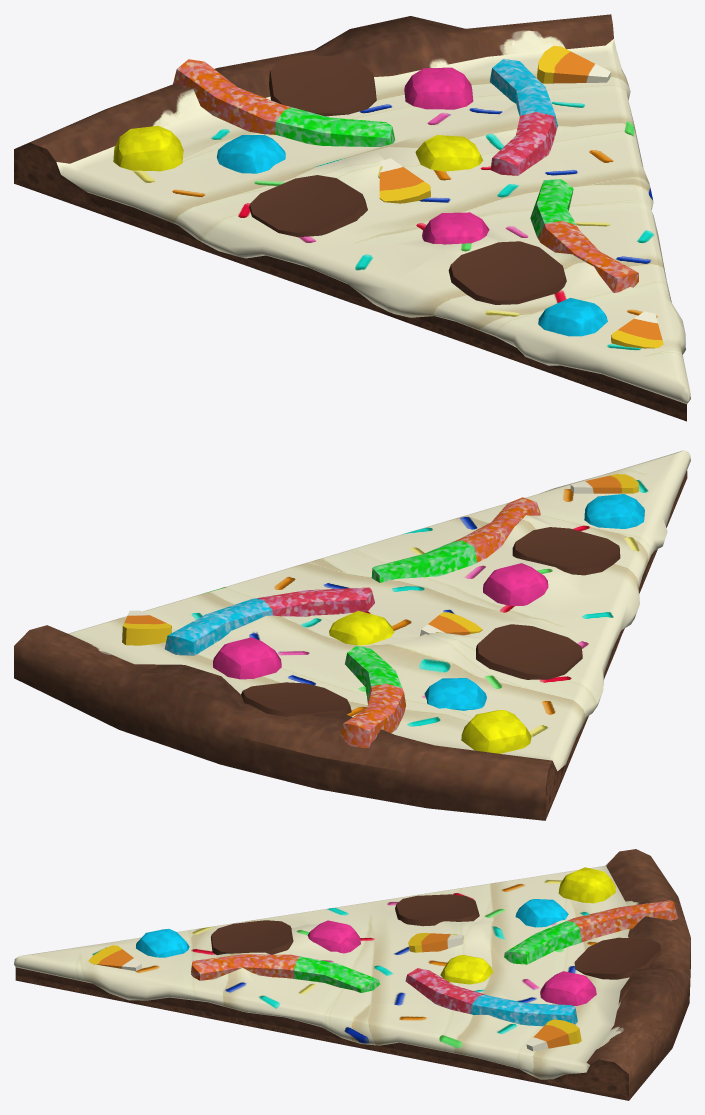
The model's file is pizza desert.glb.
3 views of the same model, one above another, from view 1: azimuth 30°, elevation 25°; view 2: azimuth 150°, elevation 25°; view 3: azimuth 270°, elevation 25° (orthographic). The views are drawn at different scales.
Parts seen in each view (by area): view 1: pizza_dessert_slice_whole; view 2: pizza_dessert_slice_whole; view 3: pizza_dessert_slice_whole.
Boxes of the visible parts, x1,y1,x2,y2 form: pizza_dessert_slice_whole: (14, 14, 690, 421); pizza_dessert_slice_whole: (14, 450, 690, 820); pizza_dessert_slice_whole: (14, 849, 690, 1100).
Bounding box in the file's own units: 0.1765 × 0.0195 × 0.231.
Materials: 1 (1 with a texture image).
